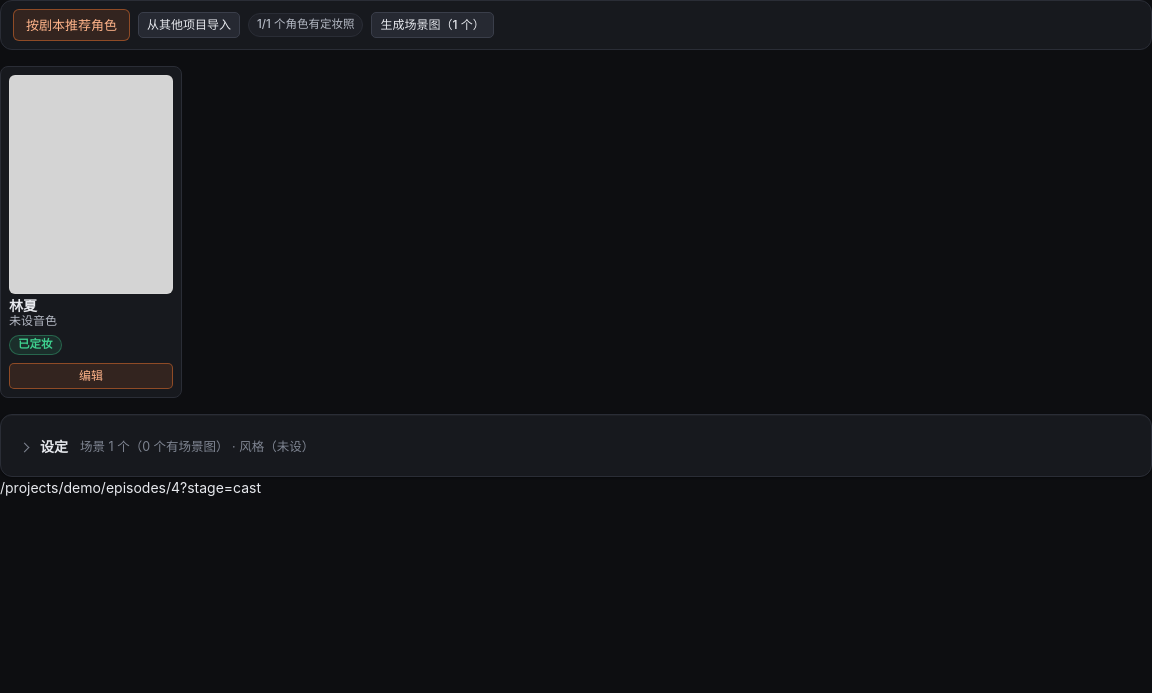
it: CastStage › 定妆照齐了、本集场景缺场景图：「生成场景图（N 个）」是下一步要触发的那个，点了给每个缺的场景出一张
The width and height of the screenshot is (1152, 693).
Click the button "生成场景图（1 个）".
click(432, 25)  # box [371,12,494,38]
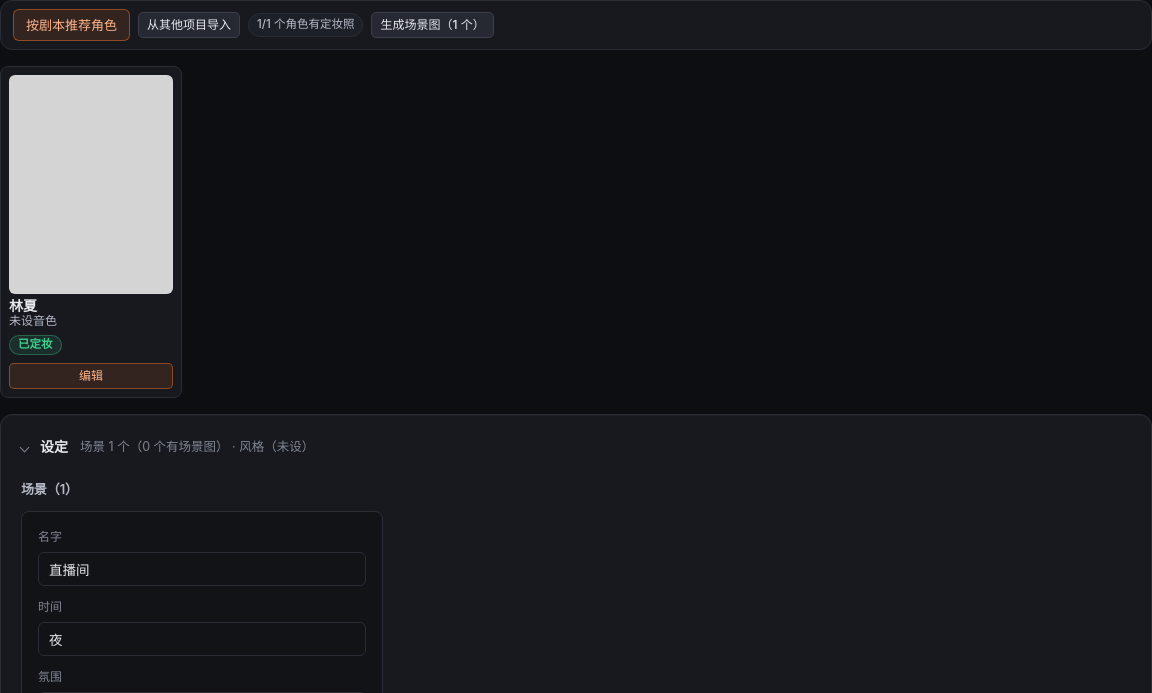
Result: the button "设定 场景 1 个（0 个有场景图） · 风格（未设）" is expanded at [21,440,1131,454]
